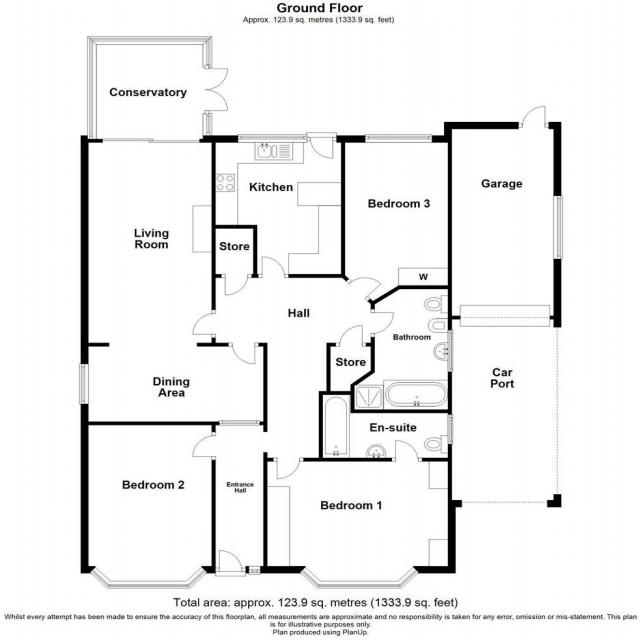DOOR: (346, 276, 384, 301), (308, 134, 335, 161), (217, 548, 244, 574), (191, 433, 217, 459), (223, 273, 250, 298), (260, 255, 287, 280), (394, 438, 421, 463), (191, 311, 217, 336), (338, 324, 365, 348), (230, 342, 257, 366), (275, 456, 302, 480), (369, 311, 395, 335)
ROOM: (78, 31, 271, 429), (261, 438, 457, 591), (79, 421, 217, 591), (207, 133, 347, 278), (340, 133, 453, 305)
SLIDING DOOR: (100, 137, 203, 145)
WINDOW: (85, 35, 214, 47), (86, 34, 99, 140), (364, 131, 434, 145), (235, 132, 309, 145), (316, 580, 403, 590), (105, 579, 191, 589), (88, 565, 112, 591), (396, 566, 420, 590), (299, 565, 322, 590), (78, 363, 91, 406), (185, 566, 208, 590), (201, 35, 213, 69), (446, 329, 454, 373), (218, 419, 261, 426), (201, 112, 213, 137), (446, 413, 454, 445), (248, 565, 261, 575)
